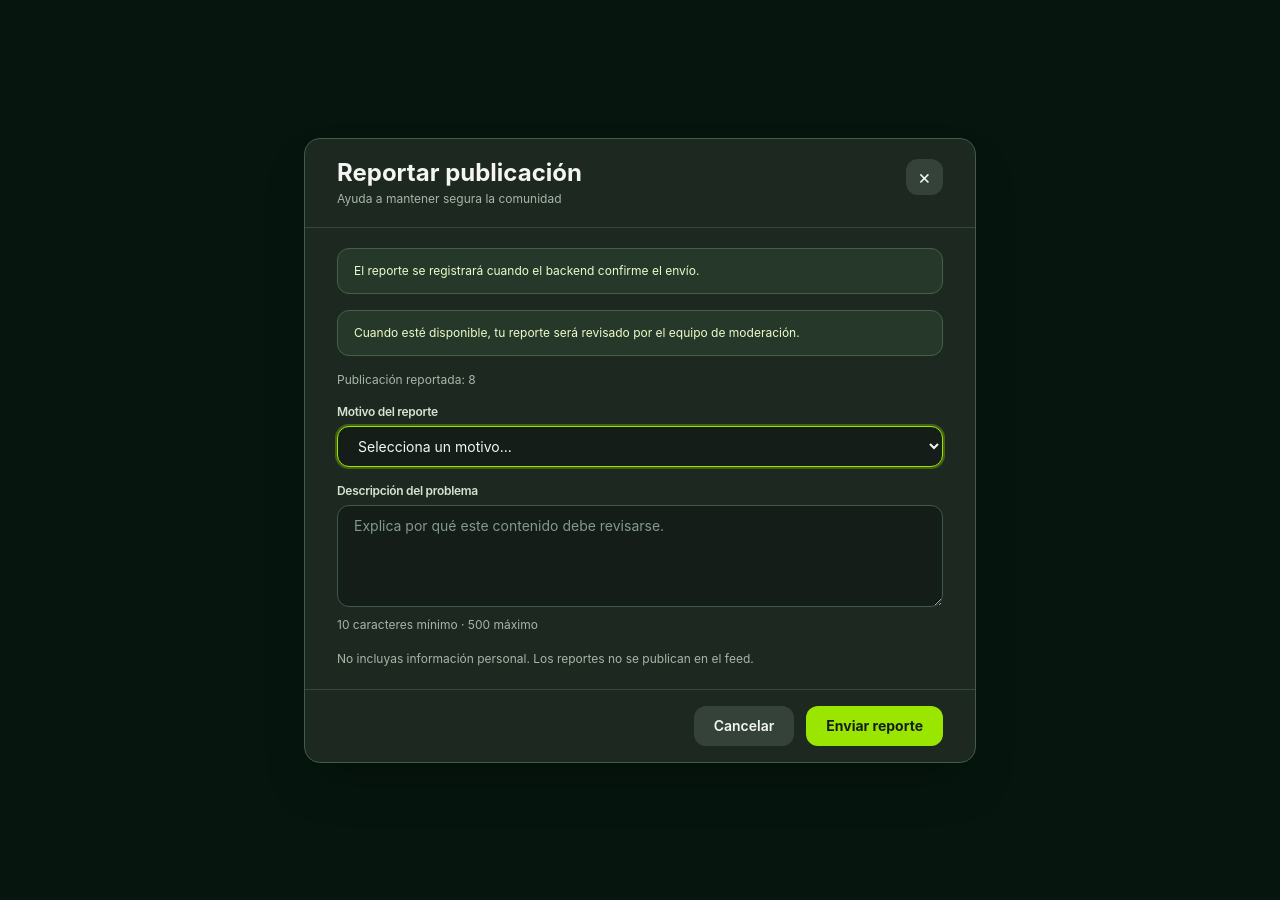
Test: ReportarPublicacionModal › valida motivo y descripción con errores vinculados por aria-describedby
Click the button "Enviar reporte" at (875, 726), box [806, 706, 943, 746]
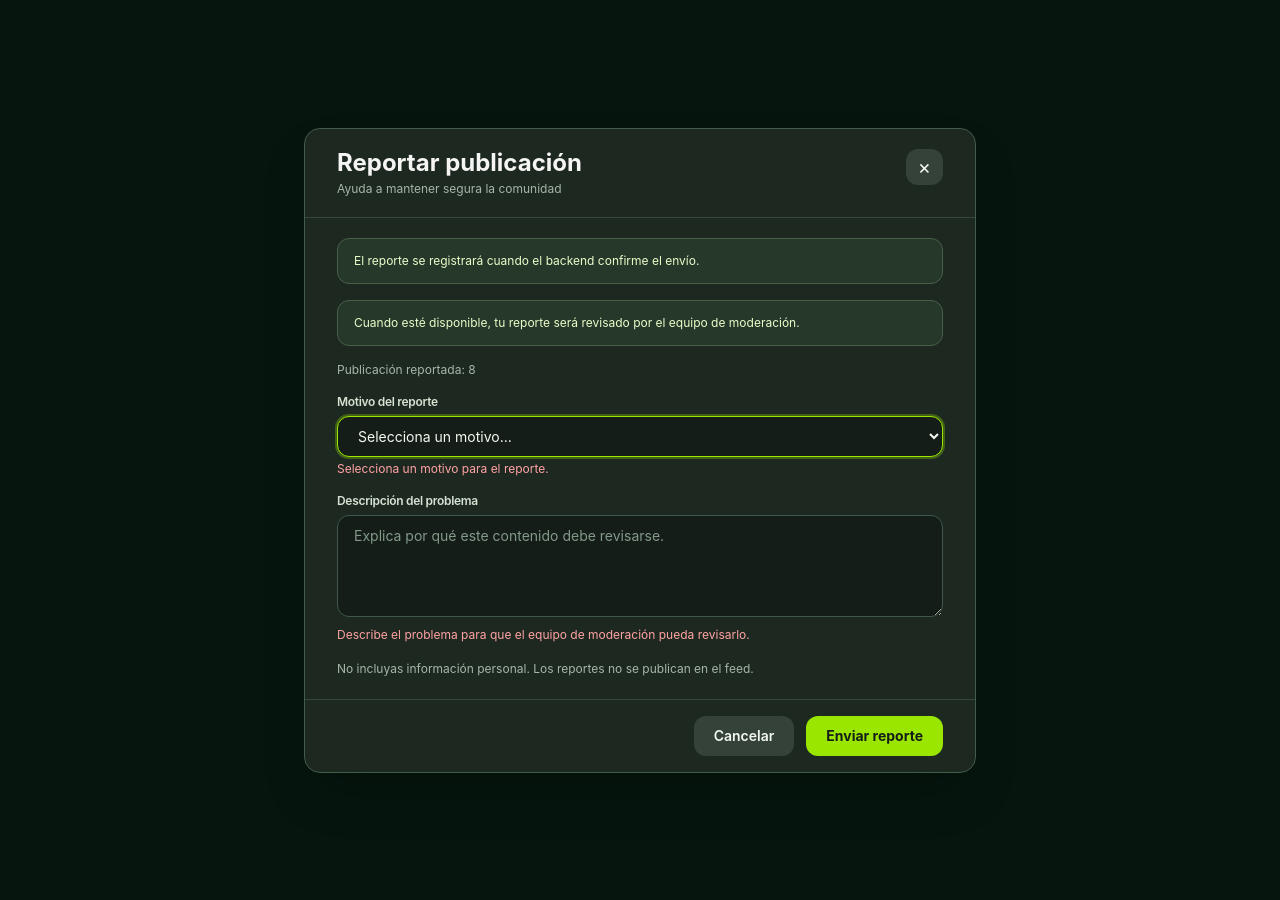
Result: the text "Selecciona un motivo para el reporte." is shown at [337, 460, 549, 476]
Result: the text "Describe el problema para que el equipo de moderación pueda revisarlo." is shown at [337, 626, 750, 642]
Select "Spam o publicidad" in the dropdown labelled "Motivo del reporte" at (640, 436), box [337, 416, 943, 456]
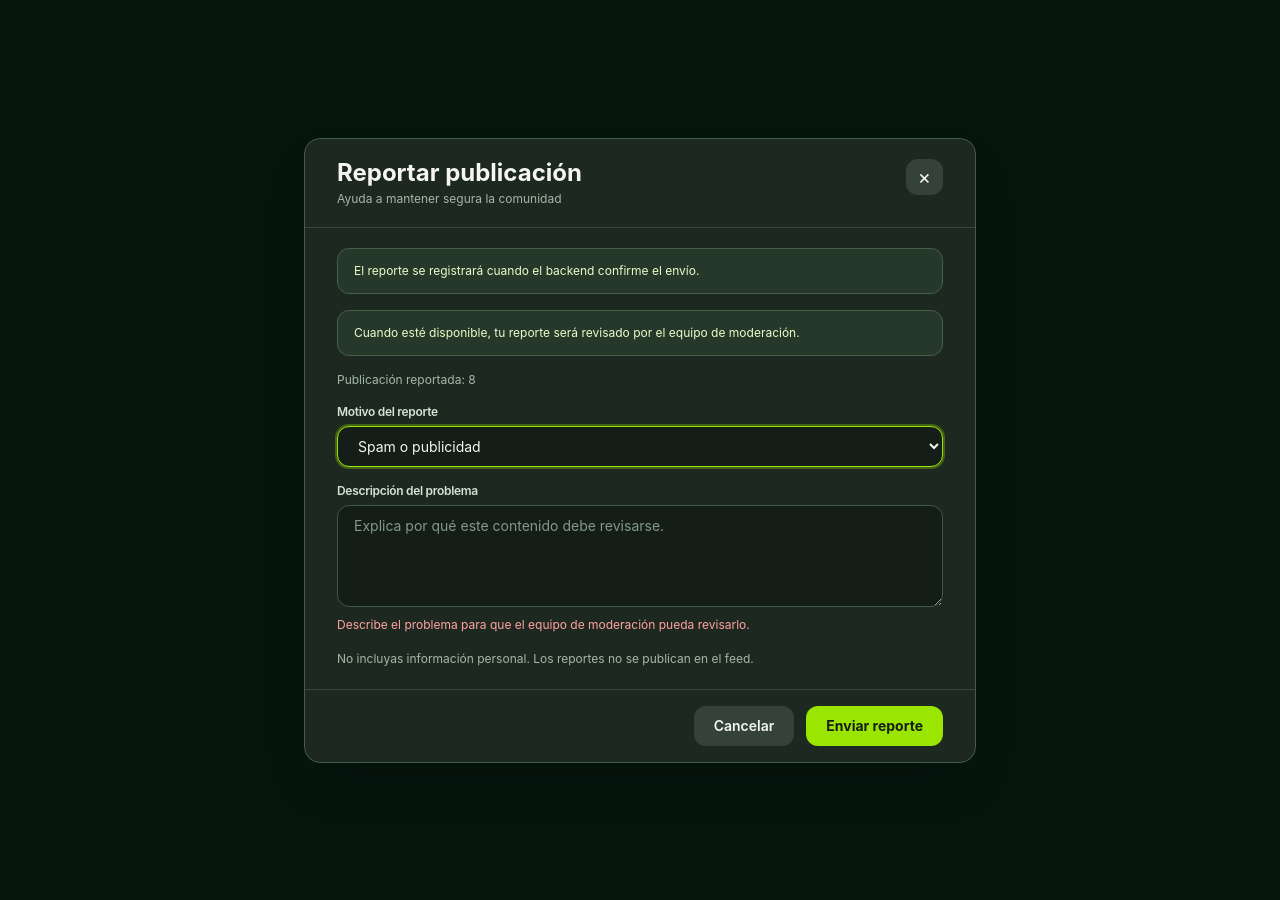
Type "corto" into the text box labelled "Descripción del problema" at (640, 556), box [337, 504, 943, 606]
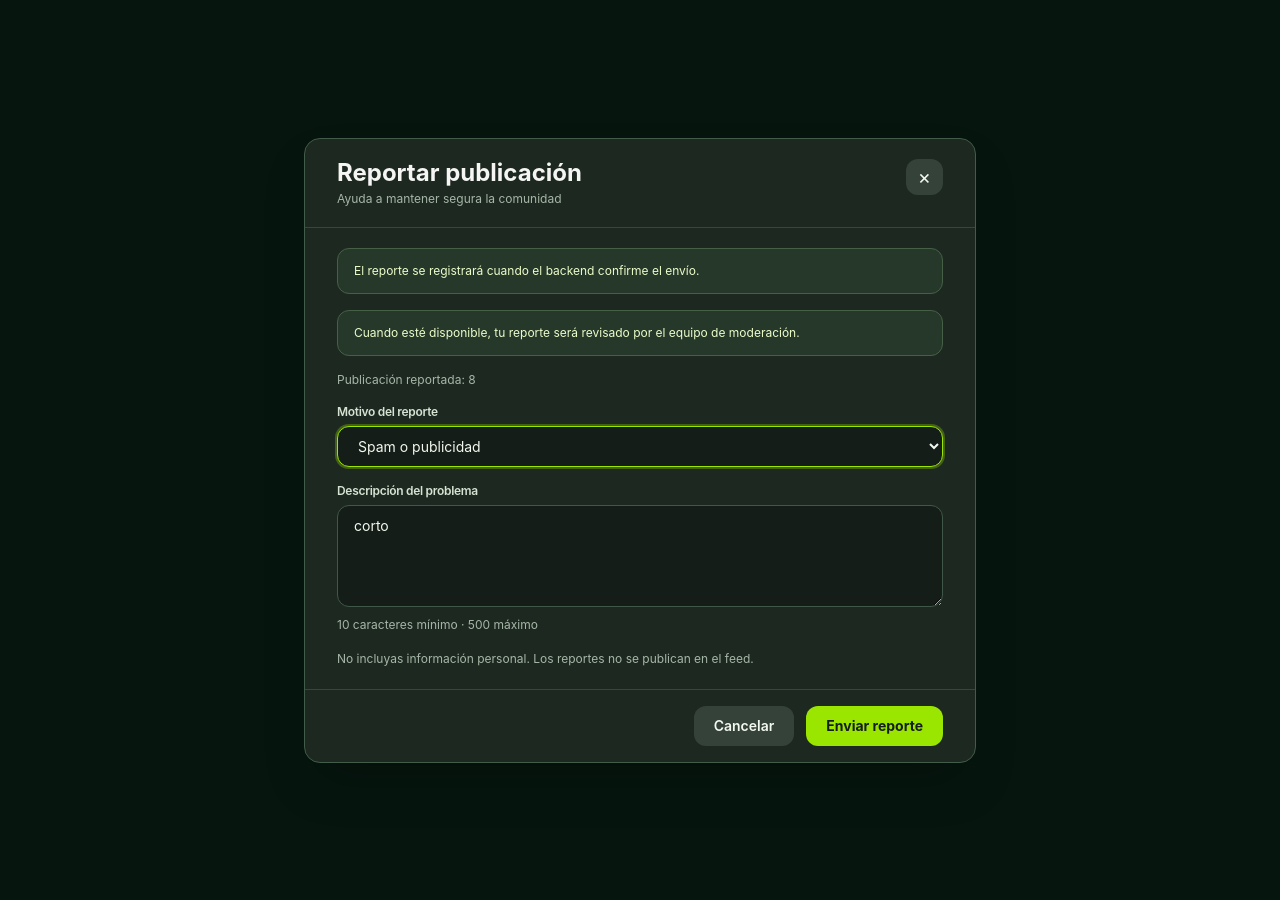
Click the button "Enviar reporte" at (875, 726), box [806, 706, 943, 746]
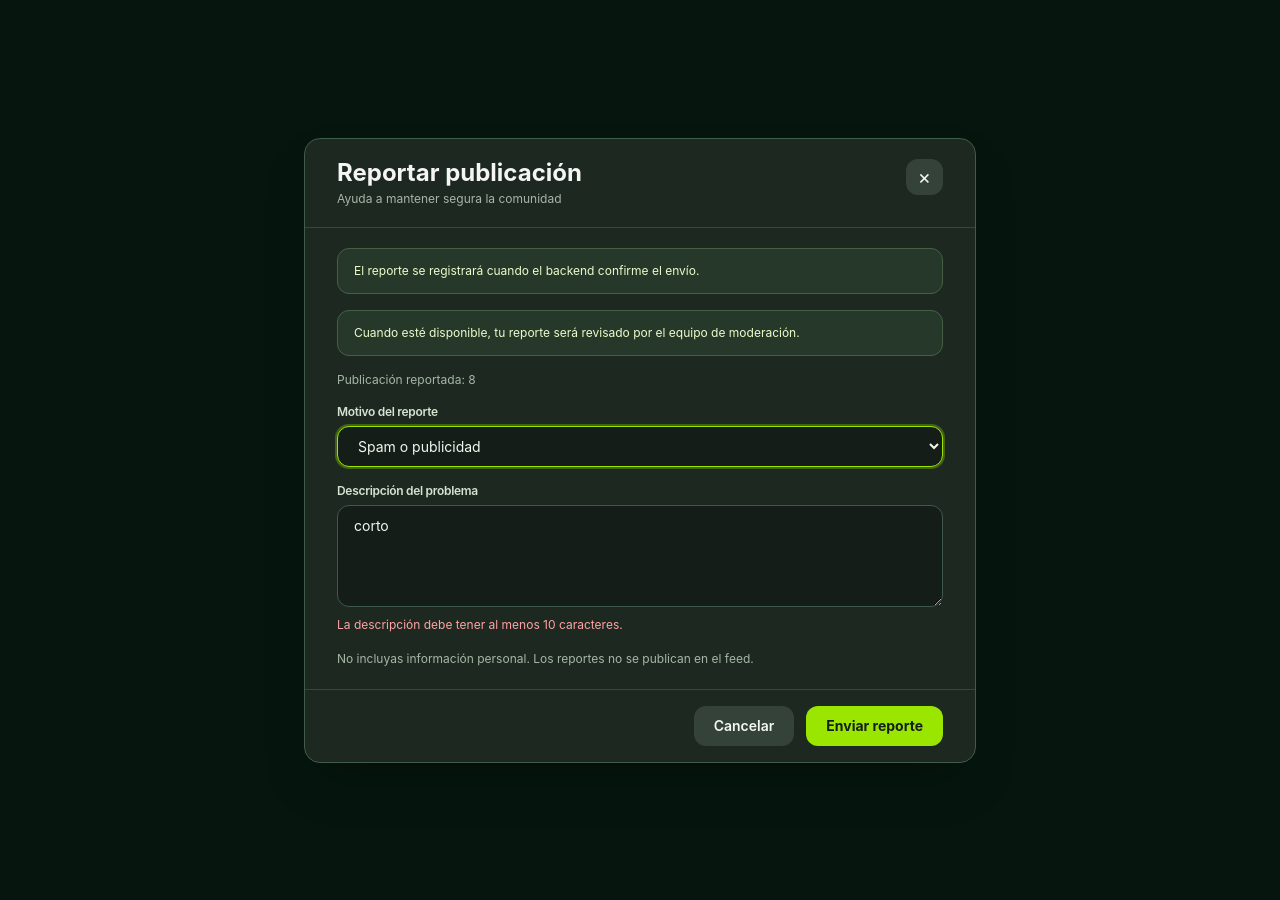
Result: the text "La descripción debe tener al menos 10 caracteres." is shown at [337, 616, 623, 632]
